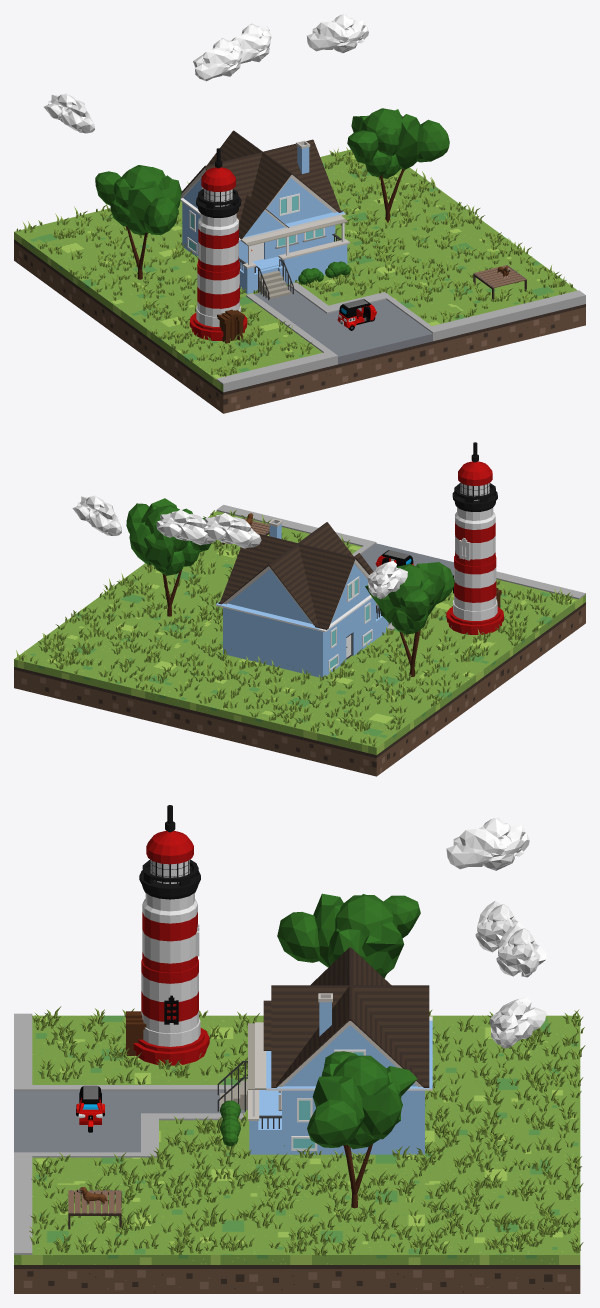
3 views of the same model, one above another, from view 1: azimuth 30°, elevation 25°; view 2: azimuth 150°, elevation 25°; view 3: azimuth 270°, elevation 25° (orthographic). The views are drawn at different scales.
Parts seen in each view (by area): view 1: Cube.006, Circle.012_Grass_0.192, Cube.1594, OBJRANDOM_LIGHTHOUSE, Cube.007, tree, tree.001, VEHICLES_TUC_TUC, Cube.009; view 2: Cube.006, Cube.1594, Circle.012_Grass_0.192, OBJRANDOM_LIGHTHOUSE, Cube.007, tree.001, tree; view 3: Cube.006, Circle.012_Grass_0.192, Cube.1594, OBJRANDOM_LIGHTHOUSE, tree, Cube.007, tree.001, Cube.009, VEHICLES_TUC_TUC.
Boxes of the visible parts, x1,y1,x2,y2 form: Cube.006: [14, 149, 585, 413]; Circle.012_Grass_0.192: [16, 147, 573, 376]; Cube.1594: [180, 130, 349, 300]; OBJRANDOM_LIGHTHOUSE: [189, 148, 247, 343]; Cube.007: [44, 14, 368, 133]; tree: [347, 108, 449, 222]; tree.001: [95, 165, 181, 279]; VEHICLES_TUC_TUC: [337, 299, 376, 330]; Cube.009: [473, 265, 526, 299]; Cube.006: [14, 505, 585, 776]; Cube.1594: [215, 519, 387, 678]; Circle.012_Grass_0.192: [16, 510, 572, 746]; OBJRANDOM_LIGHTHOUSE: [446, 442, 503, 634]; Cube.007: [72, 495, 407, 599]; tree.001: [365, 562, 454, 676]; tree: [126, 498, 211, 616]; Cube.006: [14, 1013, 580, 1293]; Circle.012_Grass_0.192: [29, 1006, 585, 1256]; Cube.1594: [217, 947, 432, 1154]; OBJRANDOM_LIGHTHOUSE: [126, 805, 209, 1065]; tree: [307, 1051, 417, 1208]; Cube.007: [446, 817, 546, 1048]; tree.001: [277, 893, 420, 978]; Cube.009: [68, 1190, 121, 1229]; VEHICLES_TUC_TUC: [76, 1085, 104, 1132].
Size of the model in its own units: 4071 by 2287 by 4040.
Materials: 41 (3 with a texture image).
